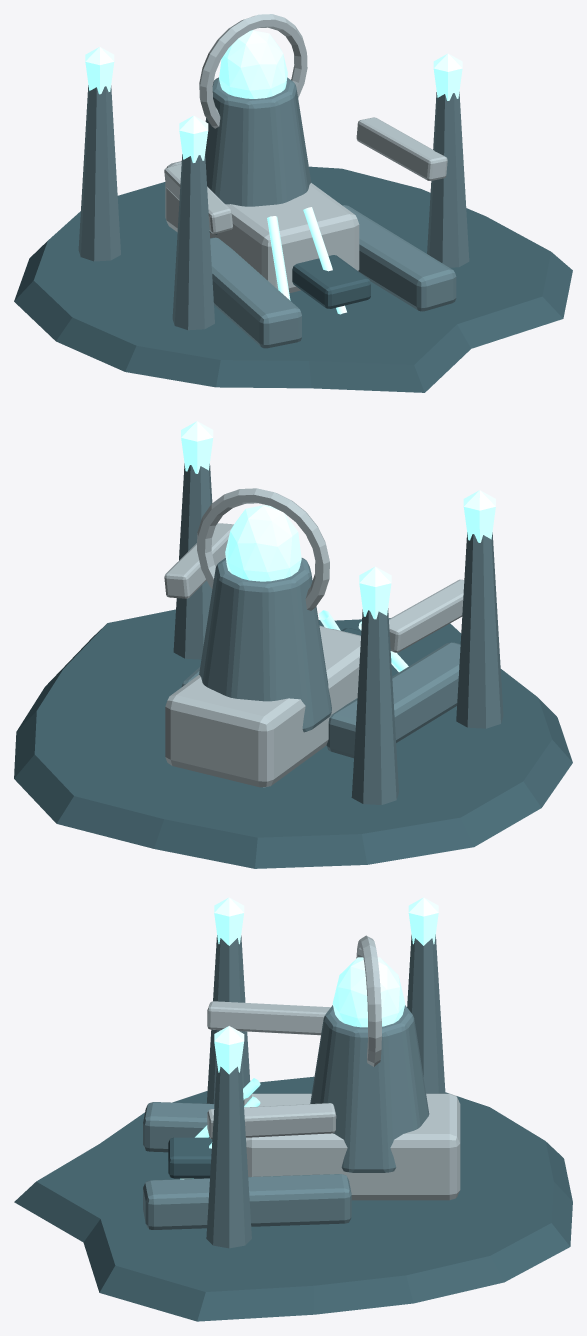
The model's file is liquid-blu-metal-sea-lod2.glb.
3 renders of one model, top to bottom at view 1: azimuth 30°, elevation 25°; view 2: azimuth 150°, elevation 25°; view 3: azimuth 270°, elevation 25°, orthographic. The views are drawn at different scales.
Visible parts, largest first — view 1: STONE_TERRAIN_SOCKET, METAL_FORGE_HEART, METAL_FORGE_SPINE, METAL_MAGNETIC_PYLON_2, METAL_MAGNETIC_PYLON_0, METAL_HARBOR_PIER_-1, METAL_HARBOR_PIER_1, METAL_MAGNETIC_PYLON_1, FX_CORE, FX_RING_PRIMARY, DARK_HARBOR_INLET, TRIM_HARBOR_CRANE_ARM_1 (+6 smaller); view 2: STONE_TERRAIN_SOCKET, METAL_FORGE_HEART, METAL_FORGE_SPINE, METAL_MAGNETIC_PYLON_2, METAL_MAGNETIC_PYLON_0, METAL_HARBOR_PIER_-1, FX_CORE, METAL_MAGNETIC_PYLON_1, FX_RING_PRIMARY, TRIM_HARBOR_CRANE_ARM_-1, TRIM_HARBOR_CRANE_ARM_1, EMISSIVE_PYLON_CORE_2 (+2 smaller); view 3: STONE_TERRAIN_SOCKET, METAL_FORGE_HEART, METAL_FORGE_SPINE, METAL_HARBOR_PIER_1, METAL_MAGNETIC_PYLON_1, METAL_MAGNETIC_PYLON_2, TRIM_HARBOR_CRANE_ARM_-1, FX_CORE, TRIM_HARBOR_CRANE_ARM_1, METAL_MAGNETIC_PYLON_0, METAL_HARBOR_PIER_-1, FX_RING_PRIMARY (+4 smaller).
Boxes of the visible parts, box(x1,y1,x2,y2) form: STONE_TERRAIN_SOCKET: box(14, 166, 572, 392); METAL_FORGE_HEART: box(205, 77, 311, 234); METAL_FORGE_SPINE: box(165, 161, 359, 293); METAL_MAGNETIC_PYLON_2: box(78, 85, 120, 261); METAL_MAGNETIC_PYLON_0: box(172, 154, 214, 330); METAL_HARBOR_PIER_-1: box(210, 237, 301, 348); METAL_HARBOR_PIER_1: box(342, 205, 456, 311); METAL_MAGNETIC_PYLON_1: box(427, 92, 469, 267); FX_CORE: box(219, 30, 287, 98); FX_RING_PRIMARY: box(199, 14, 307, 128); DARK_HARBOR_INLET: box(292, 255, 370, 308); TRIM_HARBOR_CRANE_ARM_1: box(356, 117, 447, 180); STONE_TERRAIN_SOCKET: box(14, 609, 572, 868); METAL_FORGE_HEART: box(199, 558, 331, 732); METAL_FORGE_SPINE: box(165, 625, 360, 787); METAL_MAGNETIC_PYLON_2: box(351, 608, 398, 804); METAL_MAGNETIC_PYLON_0: box(456, 532, 503, 728); METAL_HARBOR_PIER_-1: box(326, 642, 460, 758); FX_CORE: box(225, 505, 301, 581); METAL_MAGNETIC_PYLON_1: box(173, 463, 212, 659); FX_RING_PRIMARY: box(197, 488, 329, 610); TRIM_HARBOR_CRANE_ARM_-1: box(389, 579, 464, 652); TRIM_HARBOR_CRANE_ARM_1: box(164, 523, 233, 598); EMISSIVE_PYLON_CORE_2: box(359, 566, 391, 619); STONE_TERRAIN_SOCKET: box(14, 1076, 572, 1321); METAL_FORGE_HEART: box(310, 1005, 429, 1172); METAL_FORGE_SPINE: box(243, 1093, 460, 1200); METAL_HARBOR_PIER_1: box(143, 1174, 351, 1229); METAL_MAGNETIC_PYLON_1: box(206, 1064, 251, 1248); METAL_MAGNETIC_PYLON_2: box(407, 934, 445, 1093); TRIM_HARBOR_CRANE_ARM_-1: box(207, 1001, 330, 1035); FX_CORE: box(332, 957, 405, 1027); TRIM_HARBOR_CRANE_ARM_1: box(207, 1103, 336, 1138); METAL_MAGNETIC_PYLON_0: box(206, 935, 250, 1103); METAL_HARBOR_PIER_-1: box(143, 1102, 214, 1152); FX_RING_PRIMARY: box(356, 935, 381, 1066).
Size of the model in its own units: 1.81 by 0.9439 by 1.84.
